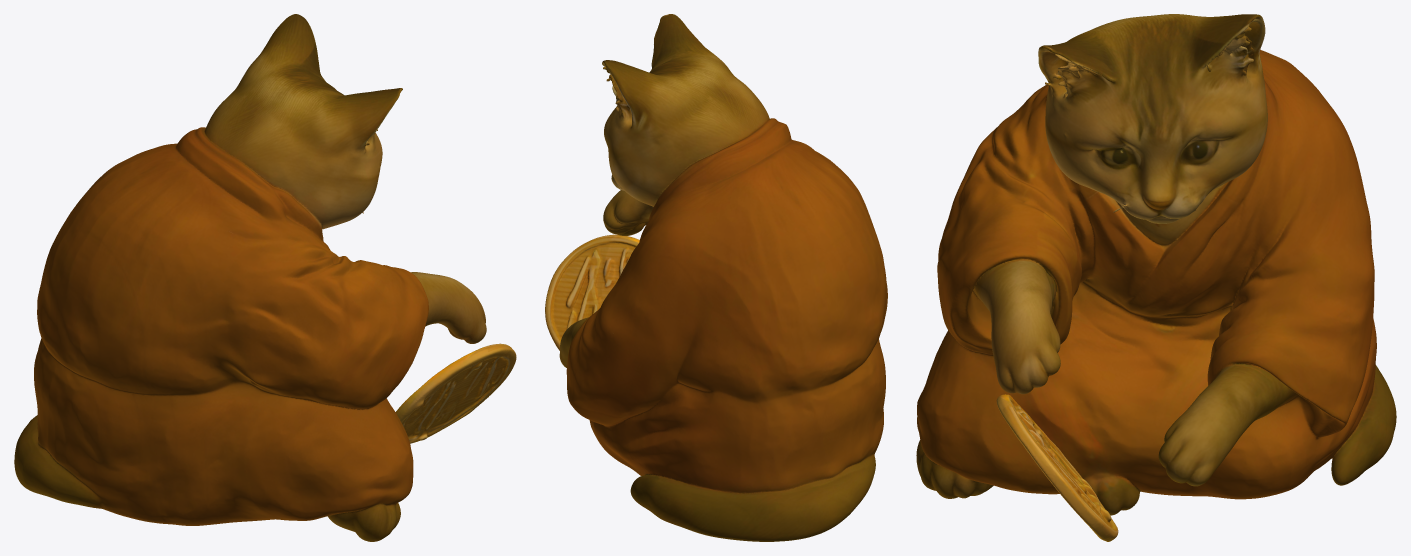
File: cat.glb
The picture shows the model from 3 angles, left to right: view 1: azimuth 30°, elevation 25°; view 2: azimuth 150°, elevation 25°; view 3: azimuth 270°, elevation 25°; orthographic projection. The views are drawn at different scales.
Parts seen in each view (by area): view 1: tripo_node_d0496a65-f262-4a68-a5e1-419e1a6a813d; view 2: tripo_node_d0496a65-f262-4a68-a5e1-419e1a6a813d; view 3: tripo_node_d0496a65-f262-4a68-a5e1-419e1a6a813d.
Boxes of the visible parts, x1=… form: tripo_node_d0496a65-f262-4a68-a5e1-419e1a6a813d: x1=14, y1=14, x2=516, y2=541; tripo_node_d0496a65-f262-4a68-a5e1-419e1a6a813d: x1=545, y1=14, x2=887, y2=541; tripo_node_d0496a65-f262-4a68-a5e1-419e1a6a813d: x1=916, y1=14, x2=1396, y2=541.
Size of the model in its own units: 0.9897 by 1 by 0.8408.
1 material, 1 textured.
